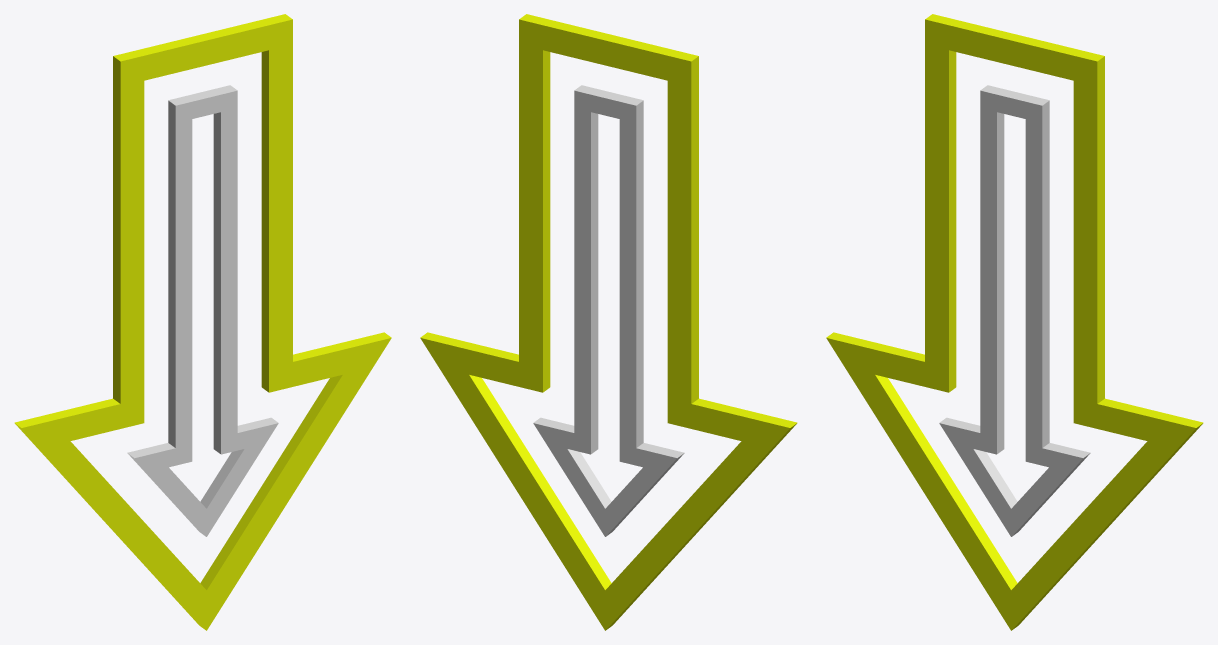
File: arrow.fbx
3 renders of one model, left to right at view 1: azimuth 30°, elevation 25°; view 2: azimuth 150°, elevation 25°; view 3: azimuth 330°, elevation 25°, orthographic.
Parts seen in each view (by area): view 1: Plane; view 2: Plane; view 3: Plane.
Boxes of the visible parts, box(x1,y1,x2,y2) form: Plane: box(14, 14, 391, 630); Plane: box(420, 14, 797, 630); Plane: box(826, 14, 1203, 630).
Bounding box in the file's own units: 430 × 655 × 15.
